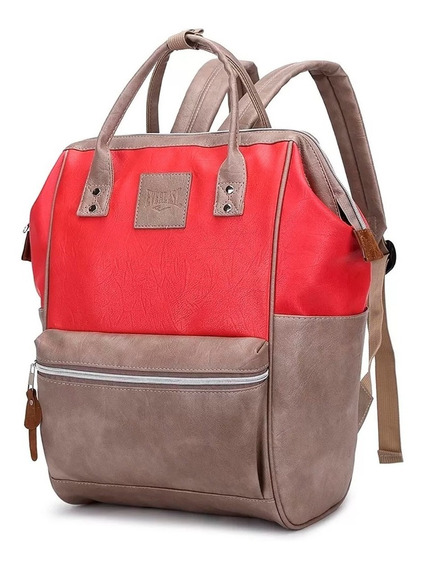cartera: (16, 23, 408, 534)
